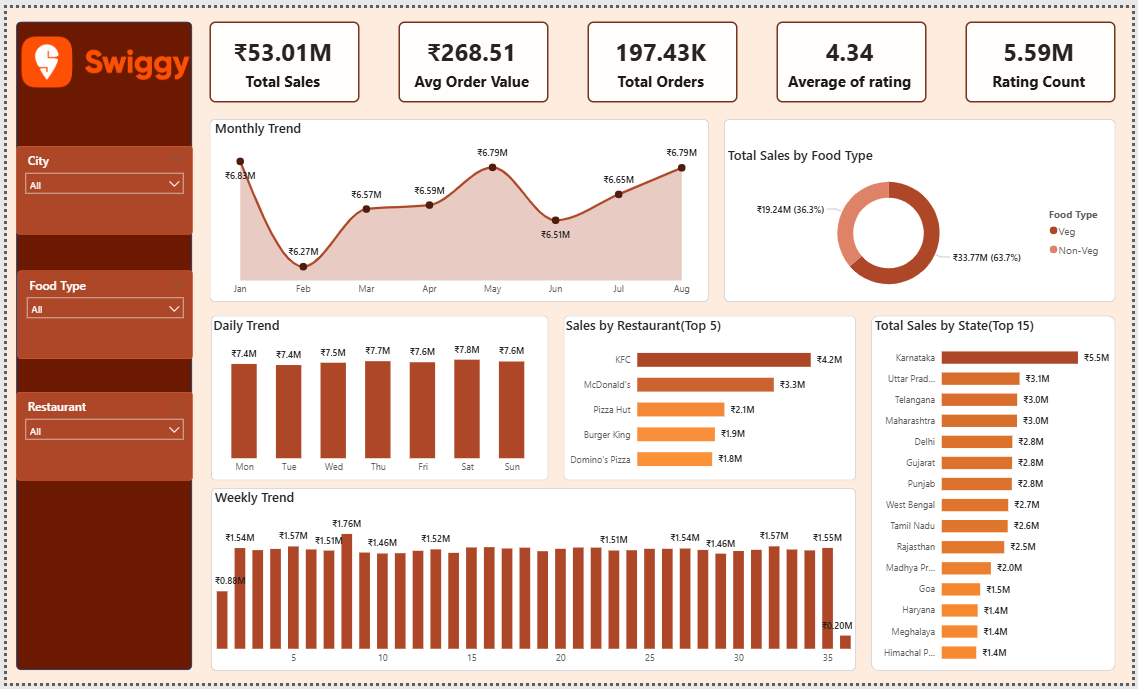

The page's visual inventory and layout, read from the dashboard file:
{"tool":"powerbi","page":{"name":"Page 1","canvas":[1500,900],"ordinal":0},"visuals":[{"type":"shape","box":[12.5,17.5,235,865],"z":0},{"type":"card","fields":{"Values":["fact_orders.Total Sales"]},"box":[270,18,200,108],"z":1000},{"type":"card","fields":{"Values":["fact_orders.Avg Order Value"]},"box":[522,18,200,108],"z":2000},{"type":"card","fields":{"Values":["fact_orders.Total Orders"]},"box":[774,18,200,108],"z":3000},{"type":"card","fields":{"Values":["Avg(fact_orders.rating)"]},"box":[1026,18,200,108],"z":4000},{"type":"card","fields":{"Values":["Sum(fact_orders.rating_count)"]},"box":[1278,18,200,108],"z":5000},{"type":"image","box":[14,18,234,108],"z":6000},{"type":"shape","box":[270,148,666,244],"z":7000},{"type":"areaChart","title":" Monthly Trend","fields":{"Category":["dim_date.Month Name"],"Y":["fact_orders.Total Sales"]},"box":[272,148,666,244],"z":8000},{"type":"shape","box":[956,148,522,244],"z":9000},{"type":"donutChart","fields":{"Category":["dim_dish.Food Type"],"Y":["fact_orders.Total Sales"]},"box":[956,184,522,208],"z":10000},{"type":"shape","box":[272,410,450,220],"z":11000},{"type":"columnChart","title":"Daily Trend","fields":{"Category":["dim_date.Day"],"Y":["fact_orders.Total Sales"]},"box":[270,410,450,220],"z":12000},{"type":"shape","box":[742,410,390,220],"z":13000},{"type":"clusteredBarChart","title":" Sales by Restaurant(Top 5)","fields":{"Category":["dim_restaurant.restaurant_name"],"Y":["fact_orders.Total Sales"]},"box":[740,410,392,220],"z":14000},{"type":"shape","box":[1152,410,326,474],"z":15000},{"type":"barChart","title":"Total Sales by State(Top 15)","fields":{"Category":["dim_location.state"],"Y":["fact_orders.Total Sales"]},"box":[1152,410,324,474],"z":16000},{"type":"shape","box":[272,640,860,244],"z":17000},{"type":"columnChart","title":"Weekly Trend","fields":{"Y":["fact_orders.Total Sales"],"Category":["dim_date.Week Number"]},"box":[272,640,860,244],"z":18000},{"type":"slicer","fields":{"Values":["dim_location.city"]},"box":[12,184,236,118],"z":19000},{"type":"slicer","fields":{"Values":["dim_dish.Food Type"]},"box":[14,350,234,118],"z":20000},{"type":"slicer","fields":{"Values":["dim_restaurant.restaurant_name"]},"box":[12,512,236,118],"z":21000}]}

Visuals, with their boxes in screenshot pixels (x1, y1, x2, y2), scaled from the page's 1500x900 canvas onto the 1138x689 screenshot:
shape: box=[9, 13, 188, 676]
card - fact_orders.Total Sales: box=[205, 14, 357, 96]
card - fact_orders.Avg Order Value: box=[396, 14, 548, 96]
card - fact_orders.Total Orders: box=[587, 14, 739, 96]
card - Avg(fact_orders.rating): box=[778, 14, 930, 96]
card - Sum(fact_orders.rating_count): box=[970, 14, 1121, 96]
image: box=[11, 14, 188, 96]
shape: box=[205, 113, 710, 300]
" Monthly Trend" areaChart: box=[206, 113, 712, 300]
shape: box=[725, 113, 1121, 300]
donutChart - dim_dish.Food Type x fact_orders.Total Sales: box=[725, 141, 1121, 300]
shape: box=[206, 314, 548, 482]
"Daily Trend" columnChart: box=[205, 314, 546, 482]
shape: box=[563, 314, 859, 482]
" Sales by Restaurant(Top 5)" clusteredBarChart: box=[561, 314, 859, 482]
shape: box=[874, 314, 1121, 677]
"Total Sales by State(Top 15)" barChart: box=[874, 314, 1120, 677]
shape: box=[206, 490, 859, 677]
"Weekly Trend" columnChart: box=[206, 490, 859, 677]
slicer - dim_location.city: box=[9, 141, 188, 231]
slicer - dim_dish.Food Type: box=[11, 268, 188, 358]
slicer - dim_restaurant.restaurant_name: box=[9, 392, 188, 482]
